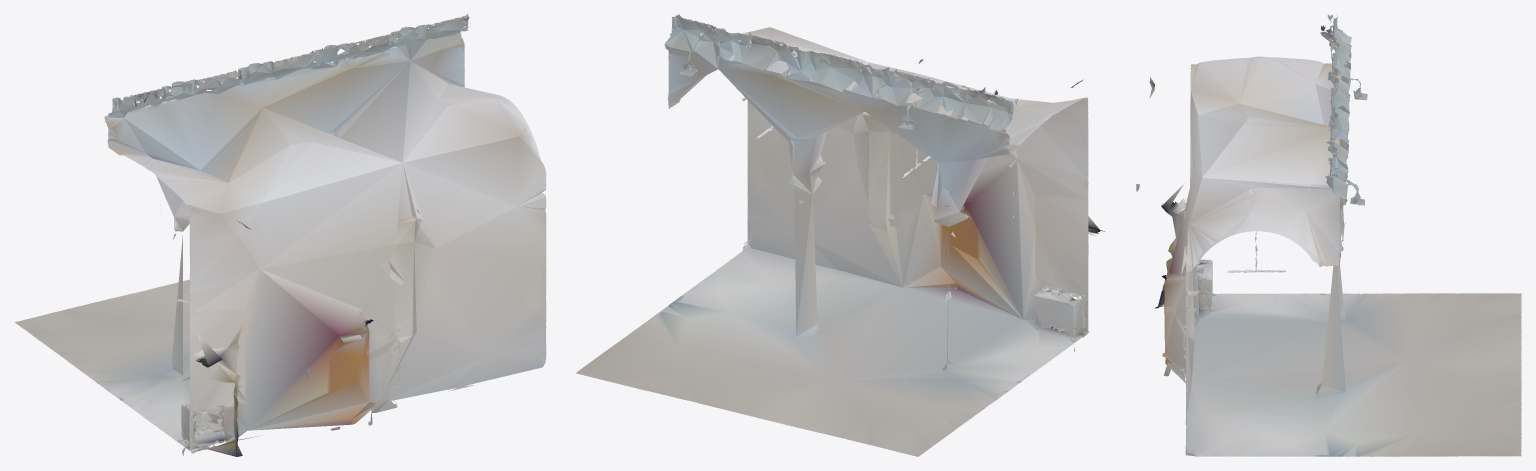
The picture shows the model from 3 angles, left to right: view 1: azimuth 30°, elevation 25°; view 2: azimuth 150°, elevation 25°; view 3: azimuth 270°, elevation 25°; orthographic projection. The views are drawn at different scales.
Size of the model in its own units: 10.21 by 8.46 by 10.
